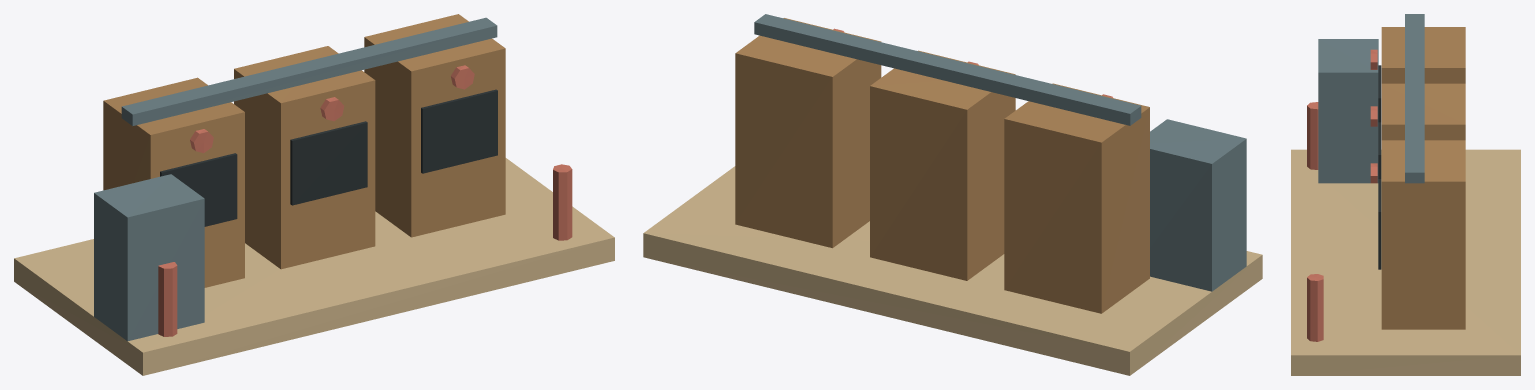
The model's file is Battery-Bank.glb.
The picture shows the model from 3 angles, left to right: view 1: azimuth 30°, elevation 25°; view 2: azimuth 150°, elevation 25°; view 3: azimuth 270°, elevation 25°; orthographic projection. The views are drawn at different scales.
Visible parts, largest first — view 1: battery-bank-static-battery-cabinet-navy, battery-bank-static-battery-concrete, battery-bank-static-battery-tray-metal, battery-bank-static-battery-panel-charcoal, battery-bank-static-battery-coupler-orange; view 2: battery-bank-static-battery-cabinet-navy, battery-bank-static-battery-concrete, battery-bank-static-battery-tray-metal; view 3: battery-bank-static-battery-concrete, battery-bank-static-battery-cabinet-navy, battery-bank-static-battery-tray-metal, battery-bank-static-battery-coupler-orange, battery-bank-static-battery-panel-charcoal.
Boxes of the visible parts, x1=… form: battery-bank-static-battery-cabinet-navy: x1=103, y1=14, x2=505, y2=287; battery-bank-static-battery-concrete: x1=14, y1=158, x2=614, y2=375; battery-bank-static-battery-tray-metal: x1=94, y1=17, x2=497, y2=341; battery-bank-static-battery-panel-charcoal: x1=160, y1=89, x2=497, y2=226; battery-bank-static-battery-coupler-orange: x1=158, y1=65, x2=572, y2=336; battery-bank-static-battery-cabinet-navy: x1=735, y1=18, x2=1149, y2=313; battery-bank-static-battery-concrete: x1=643, y1=166, x2=1262, y2=375; battery-bank-static-battery-tray-metal: x1=754, y1=14, x2=1246, y2=291; battery-bank-static-battery-concrete: x1=1291, y1=149, x2=1520, y2=375; battery-bank-static-battery-cabinet-navy: x1=1381, y1=27, x2=1465, y2=329; battery-bank-static-battery-tray-metal: x1=1318, y1=14, x2=1424, y2=183; battery-bank-static-battery-coupler-orange: x1=1307, y1=49, x2=1377, y2=341; battery-bank-static-battery-panel-charcoal: x1=1378, y1=65, x2=1381, y2=269.
Bounding box in the file's own units: 5.5 × 2.24 × 2.6.
